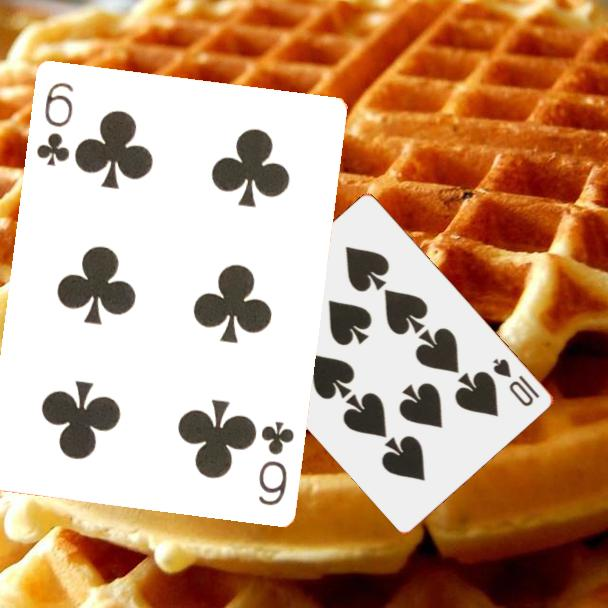c06: (32, 78, 76, 168), (254, 417, 297, 508)
s10: (490, 355, 543, 410)
